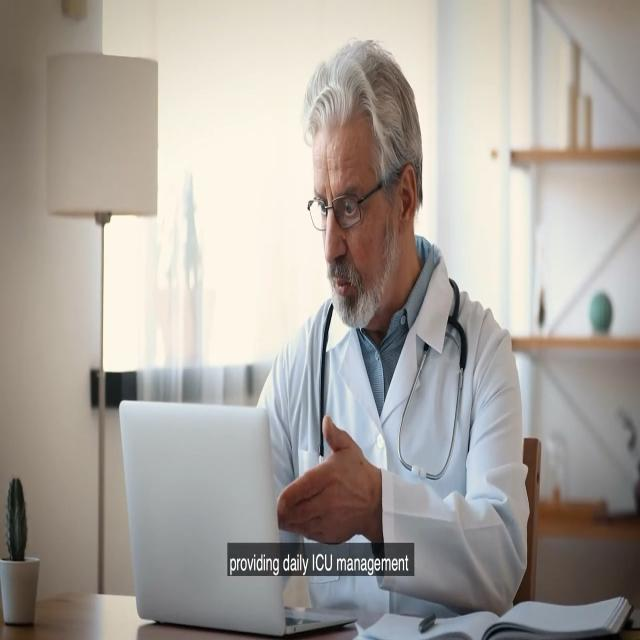Doctor: (268, 26, 505, 506)
